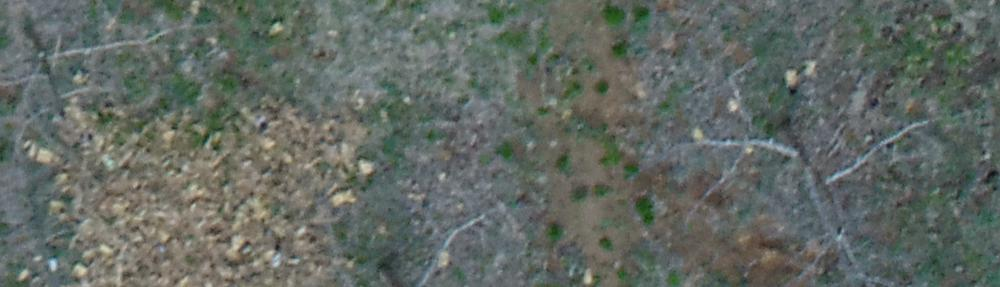apple: (681, 84, 975, 266), (10, 10, 199, 164)
